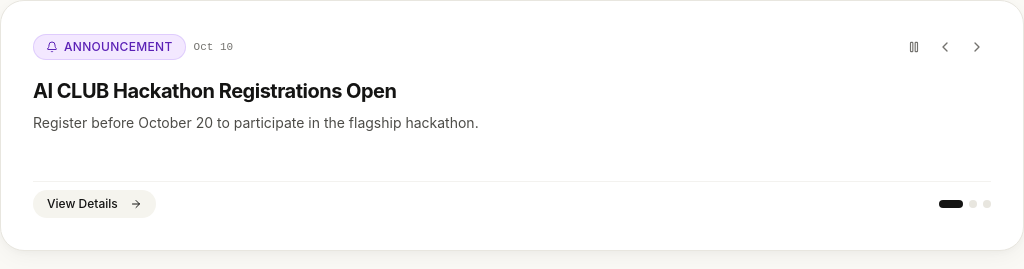
Scenario: Member Dashboard Flashcard System Tests (FLASH-018 to FLASH-035) › FLASH-019: Previous button navigates to previous card immediately
Expected: the heading "AI CLUB Hackathon Registrations Open" is shown, [33,79,396,103]
Step 1. Click the button named "previous highlight" → (945, 47), box [931,33,959,61]
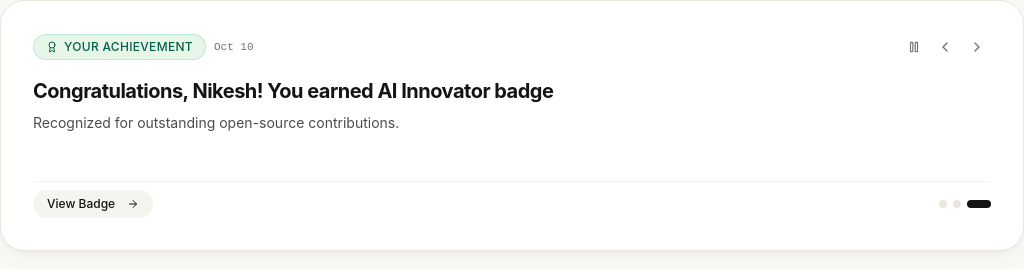
Now the heading "Congratulations, Nikesh! You earned AI Innovator badge" is shown, box [33,79,553,103]
